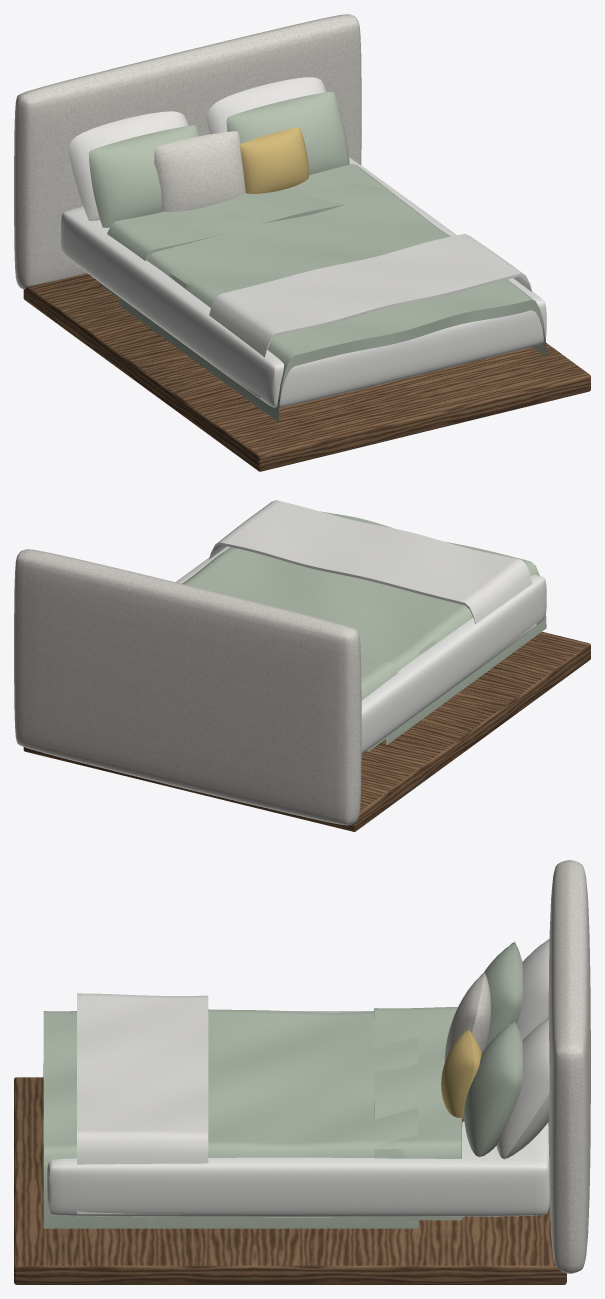
Rendered from cama-2p-nogal-boucle-v2.gltf.
3 views of the same model, one above another, from view 1: azimuth 30°, elevation 25°; view 2: azimuth 150°, elevation 25°; view 3: azimuth 270°, elevation 25° (orthographic). The views are drawn at different scales.
Parts seen in each view (by area): view 1: cama-2p-nogal-boucle__f_salvia, cama-2p-nogal-boucle__f_boucle, cama-2p-nogal-boucle__w_nogal_x, cama-2p-nogal-boucle__f_colchon, cama-2p-nogal-boucle__f_lino_blanco, cama-2p-nogal-boucle__f_lino_mostaza; view 2: cama-2p-nogal-boucle__f_boucle, cama-2p-nogal-boucle__f_salvia, cama-2p-nogal-boucle__f_lino_blanco, cama-2p-nogal-boucle__w_nogal_x, cama-2p-nogal-boucle__f_colchon; view 3: cama-2p-nogal-boucle__f_salvia, cama-2p-nogal-boucle__w_nogal_x, cama-2p-nogal-boucle__f_colchon, cama-2p-nogal-boucle__f_lino_blanco, cama-2p-nogal-boucle__f_boucle, cama-2p-nogal-boucle__f_lino_mostaza.
Boxes of the visible parts, box(x1,y1,x2,y2) form: cama-2p-nogal-boucle__f_salvia: box(88, 91, 546, 422); cama-2p-nogal-boucle__f_boucle: box(14, 14, 361, 289); cama-2p-nogal-boucle__w_nogal_x: box(23, 273, 590, 471); cama-2p-nogal-boucle__f_colchon: box(60, 157, 546, 407); cama-2p-nogal-boucle__f_lino_blanco: box(68, 77, 532, 398); cama-2p-nogal-boucle__f_lino_mostaza: box(240, 127, 308, 193); cama-2p-nogal-boucle__f_boucle: box(14, 549, 361, 825); cama-2p-nogal-boucle__f_salvia: box(182, 511, 546, 751); cama-2p-nogal-boucle__f_lino_blanco: box(209, 500, 536, 660); cama-2p-nogal-boucle__w_nogal_x: box(23, 632, 590, 831); cama-2p-nogal-boucle__f_colchon: box(176, 546, 546, 753); cama-2p-nogal-boucle__f_salvia: box(43, 942, 522, 1228); cama-2p-nogal-boucle__w_nogal_x: box(14, 1077, 566, 1284); cama-2p-nogal-boucle__f_colchon: box(47, 1011, 549, 1217); cama-2p-nogal-boucle__f_lino_blanco: box(77, 939, 549, 1214); cama-2p-nogal-boucle__f_boucle: box(444, 860, 590, 1273); cama-2p-nogal-boucle__f_lino_mostaza: box(441, 1029, 481, 1122).
Bounding box in the file's own units: 1.7 × 1.09 × 2.11.
7 materials, 6 textured.
